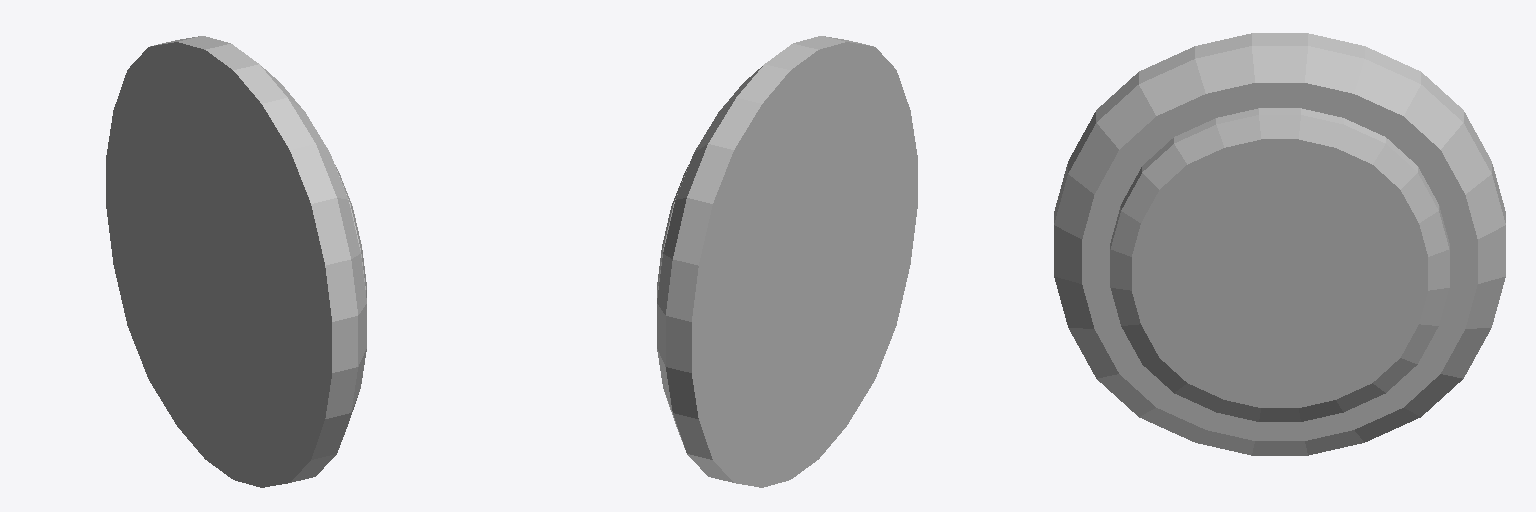
Rendered from WheelCap.obj.
The picture shows the model from 3 angles: view 1: azimuth 30°, elevation 25°; view 2: azimuth 150°, elevation 25°; view 3: azimuth 270°, elevation 25°; orthographic projection.
Visible parts, largest first — view 1: entity0_brush1; view 2: entity0_brush1; view 3: entity0_brush0, entity0_brush1.
Part boxes in pixels (left/top/right/bottom): entity0_brush1: left=106, top=36, right=366, bottom=487; entity0_brush1: left=657, top=36, right=917, bottom=487; entity0_brush0: left=1110, top=108, right=1449, bottom=421; entity0_brush1: left=1054, top=33, right=1505, bottom=455.
Size of the model in its own units: 3 by 16 by 16.